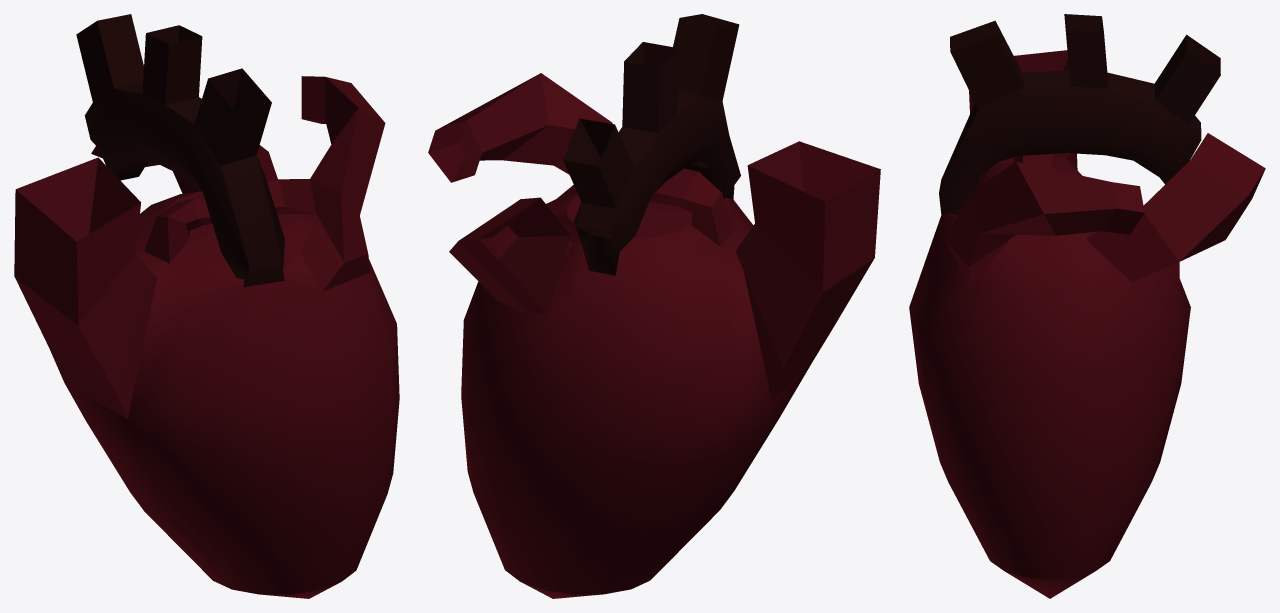
File: Herz.FBX
3 renders of one model, left to right at view 1: azimuth 30°, elevation 25°; view 2: azimuth 150°, elevation 25°; view 3: azimuth 270°, elevation 25°, orthographic. The views are drawn at different scales.
Visible parts, largest first — view 1: Cylinder001; view 2: Cylinder001; view 3: Cylinder001.
Part boxes in pixels (box(x1,y1,x2,y2)): Cylinder001: box(14, 14, 399, 598); Cylinder001: box(428, 14, 880, 598); Cylinder001: box(909, 14, 1265, 598).
Size of the model in its own units: 57.14 by 88.05 by 54.06.
